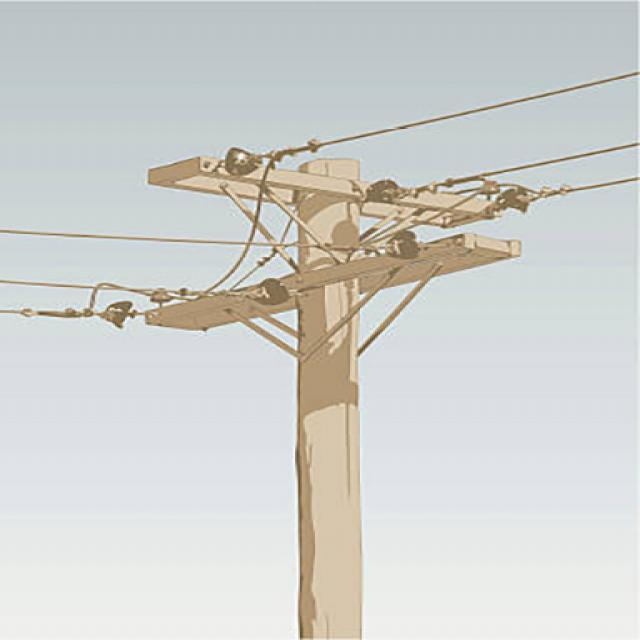pole: (108, 131, 564, 640)
